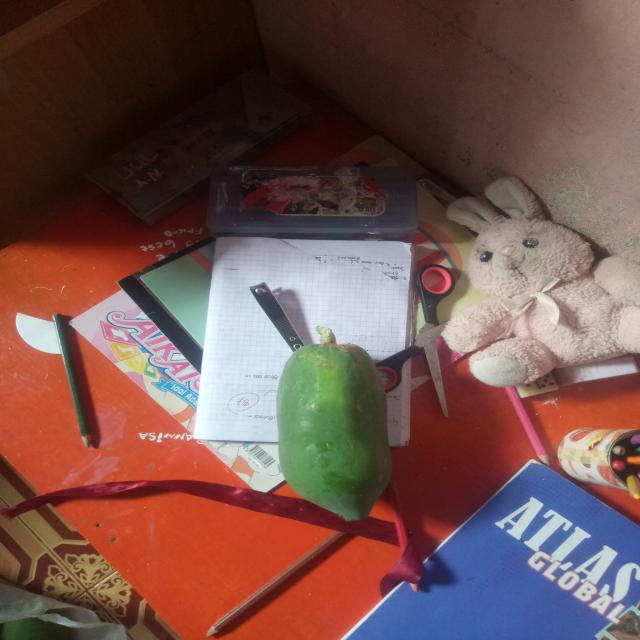Pepaya unrippen: (268, 328, 389, 522)
